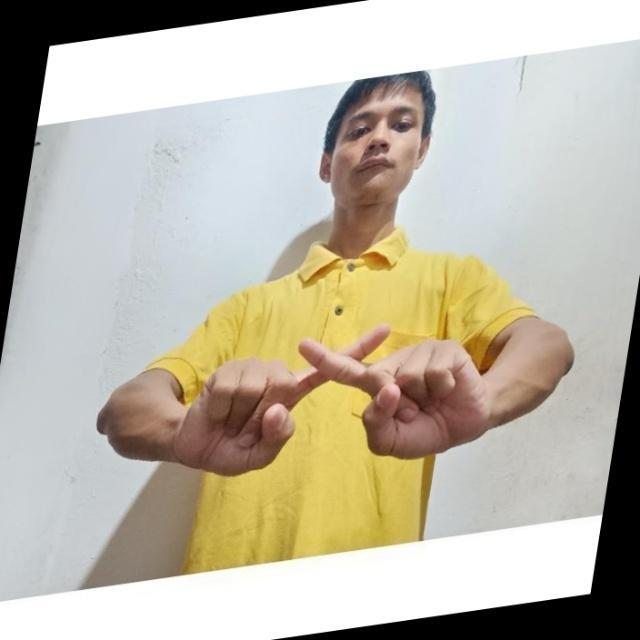X: (249, 318, 430, 448)
